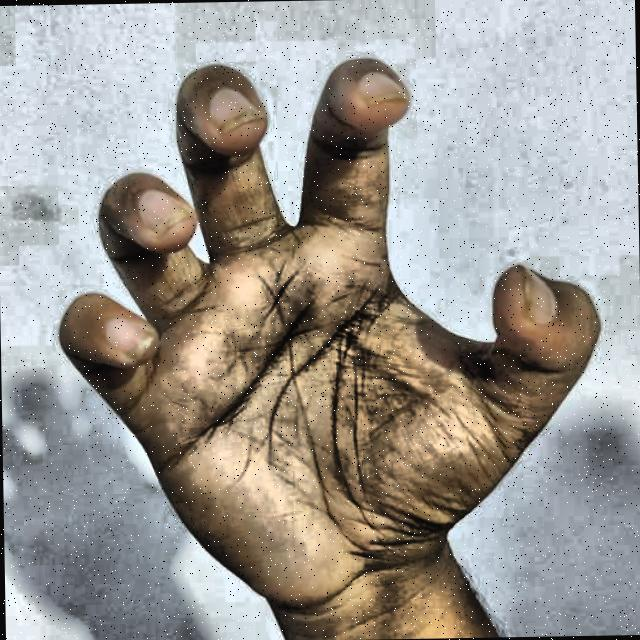Ja: (27, 26, 618, 640)
